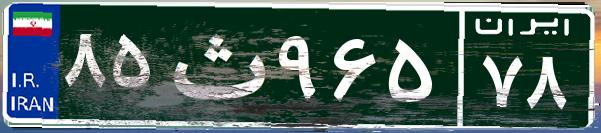5: (385, 28, 445, 110), (110, 28, 158, 105)
6: (330, 28, 385, 110)
7: (475, 38, 525, 113)
8: (57, 26, 110, 107), (525, 38, 570, 115)
9: (273, 28, 330, 110)
ث: (158, 15, 273, 115)
